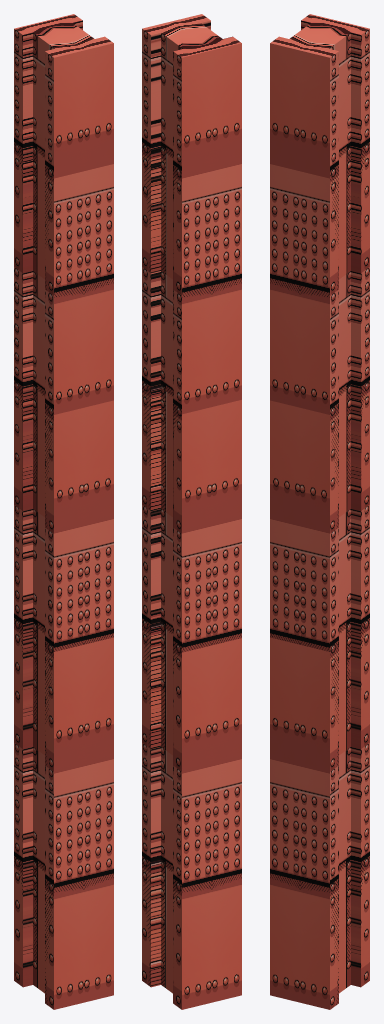
File: column.fbx
The picture shows the model from 3 angles, left to right: view 1: azimuth 30°, elevation 25°; view 2: azimuth 210°, elevation 25°; view 3: azimuth 330°, elevation 25°; orthographic projection.
Parts seen in each view (by area): view 1: Cube; view 2: Cube; view 3: Cube.
Boxes of the visible parts, <box> form: Cube: <box>14,14,113,1009</box>; Cube: <box>142,14,241,1009</box>; Cube: <box>270,14,369,1009</box>.
Size of the model in its own units: 69.8 by 80.41 by 1060.
1 material, 1 textured.
